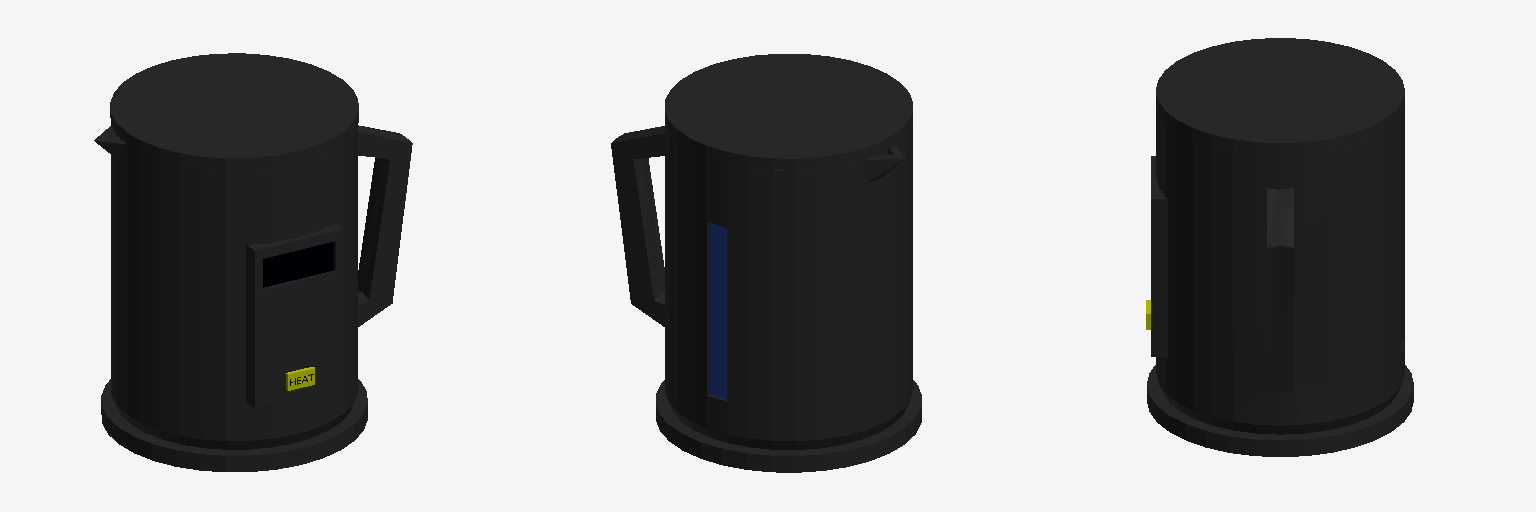
Rendered from kettle.obj.
3 views of the same model, side by side, from view 1: azimuth 30°, elevation 25°; view 2: azimuth 150°, elevation 25°; view 3: azimuth 270°, elevation 25° (orthographic).
Parts seen in each view (by area): view 1: Base_Circle.005, Cover_Cylinder.007, Dial_Cube.003; view 2: Base_Circle.005, Cover_Cylinder.007; view 3: Base_Circle.005, Cover_Cylinder.007, Dial_Cube.003.
Boxes of the visible parts, box(x1,y1,x2,y2) form: Base_Circle.005: box(94, 125, 412, 471); Cover_Cylinder.007: box(110, 53, 358, 169); Dial_Cube.003: box(246, 223, 343, 407); Base_Circle.005: box(611, 124, 921, 472); Cover_Cylinder.007: box(665, 54, 912, 170); Base_Circle.005: box(1147, 105, 1413, 456); Cover_Cylinder.007: box(1156, 38, 1404, 154); Dial_Cube.003: box(1151, 156, 1167, 356).
Size of the model in its own units: 2.22 by 2.2 by 1.72.